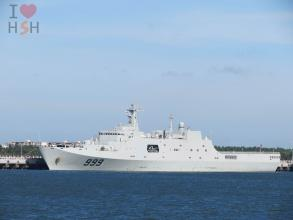warship: (30, 102, 283, 172)
